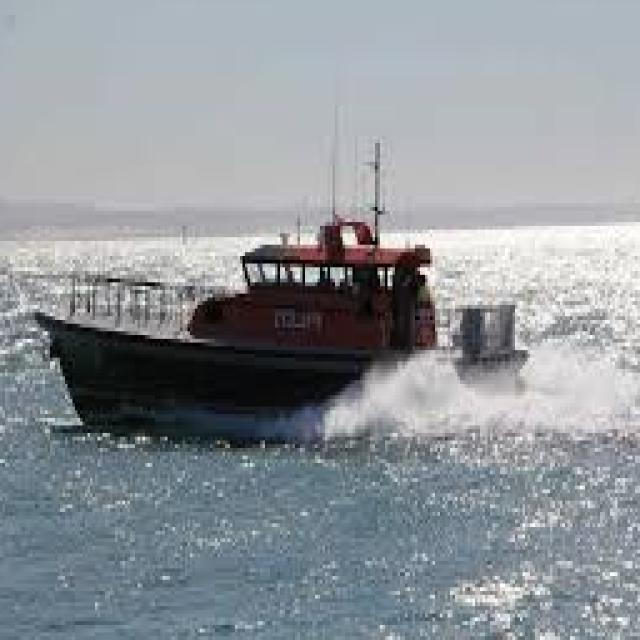houseboat: (44, 128, 528, 443)
